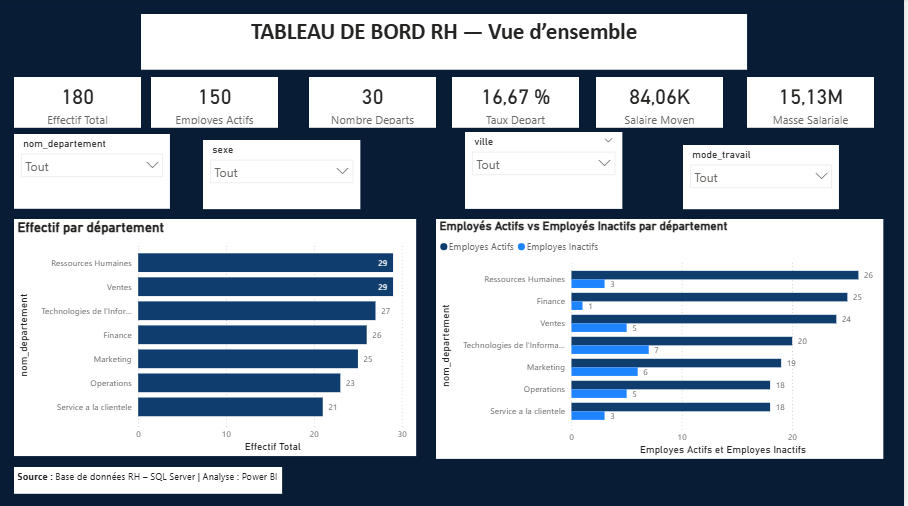

The dashboard page shown, as its layout file describes it:
{"tool":"powerbi","page":{"name":"Vue d'ensemble RH","canvas":[1280,720],"ordinal":0},"visuals":[{"type":"card","fields":{"Values":["Employes.Effectif Total"]},"box":[19.8,110.6,180,72.3],"z":0},{"type":"card","fields":{"Values":["Employes.Employes Actifs"]},"box":[214,110.6,180,72.3],"z":1000},{"type":"card","fields":{"Values":["Employes.Taux Depart"]},"box":[640.6,110.6,180,72.3],"z":2000},{"type":"card","fields":{"Values":["Employes.Nombre Departs"]},"box":[438,110.6,180,72.3],"z":3000},{"type":"card","fields":{"Values":["Employes.Salaire Moyen"]},"box":[844.7,110.6,180,72.3],"z":4000},{"type":"card","fields":{"Values":["Employes.Masse Salariale"]},"box":[1058.7,110.6,180,72.3],"z":5000},{"type":"clusteredBarChart","title":"Effectif par département","fields":{"Category":["Departements.nom_departement"],"Y":["Employes.Effectif Total"]},"box":[19.8,311.8,569.8,335.9],"z":6000},{"type":"clusteredBarChart","title":"Employés Actifs vs Employés Inactifs par département","fields":{"Category":["Departements.nom_departement"],"Y":["Employes.Employes Actifs","Employes.Employes Inactifs"]},"box":[618,311.8,633.5,340.2],"z":7000},{"type":"slicer","fields":{"Values":["Departements.nom_departement"]},"box":[60.9,191.3,221.1,106.3],"z":8000},{"type":"slicer","fields":{"Values":["Employes.sexe"]},"box":[367.1,191.3,222.5,97.8],"z":9000},{"type":"slicer","fields":{"Values":["Employes.ville"]},"box":[657.6,191.3,222.5,109.1],"z":10000},{"type":"slicer","fields":{"Values":["Employes.mode_travail"]},"box":[966.6,188.5,221.1,90.7],"z":11000},{"type":"textbox","box":[199.8,21.3,858.9,79.4],"z":12000},{"type":"textbox","box":[19.8,663.3,379.8,38.3],"z":13000}]}

Visuals, with their boxes in screenshot pixels (x1, y1, x2, y2), scaled from the page's 1280x720 canvas onto the 908x506 screenshot:
card - Employes.Effectif Total: 14, 78, 142, 129
card - Employes.Employes Actifs: 152, 78, 279, 129
card - Employes.Taux Depart: 454, 78, 582, 129
card - Employes.Nombre Departs: 311, 78, 438, 129
card - Employes.Salaire Moyen: 599, 78, 727, 129
card - Employes.Masse Salariale: 751, 78, 879, 129
"Effectif par département" clusteredBarChart: 14, 219, 418, 455
"Employés Actifs vs Employés Inactifs par département" clusteredBarChart: 438, 219, 888, 458
slicer - Departements.nom_departement: 43, 134, 200, 209
slicer - Employes.sexe: 260, 134, 418, 203
slicer - Employes.ville: 466, 134, 624, 211
slicer - Employes.mode_travail: 686, 132, 843, 196
textbox: 142, 15, 751, 71
textbox: 14, 466, 283, 493
